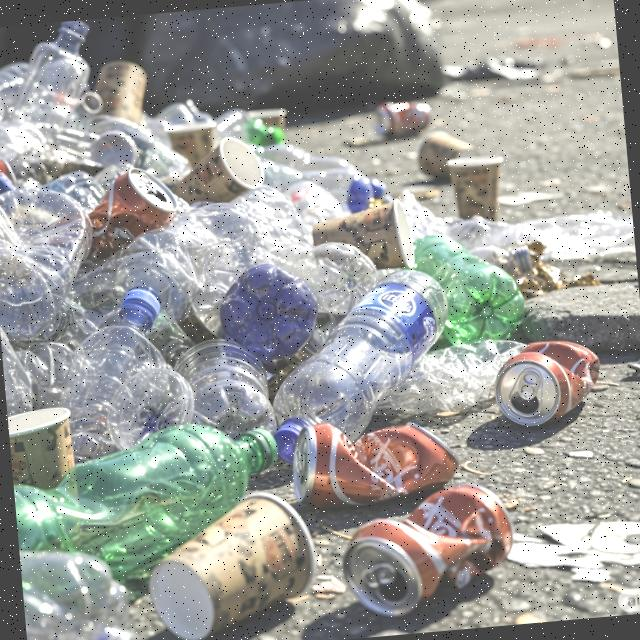aluminum: (328, 476, 525, 618), (279, 411, 465, 524), (490, 330, 608, 438), (74, 160, 189, 270)
paper: (146, 484, 326, 640), (310, 197, 416, 281), (6, 401, 78, 485)
plastic: (9, 416, 287, 566), (268, 264, 460, 438), (56, 289, 178, 471), (0, 179, 105, 345), (408, 224, 530, 352), (178, 335, 272, 430), (21, 572, 144, 640)
